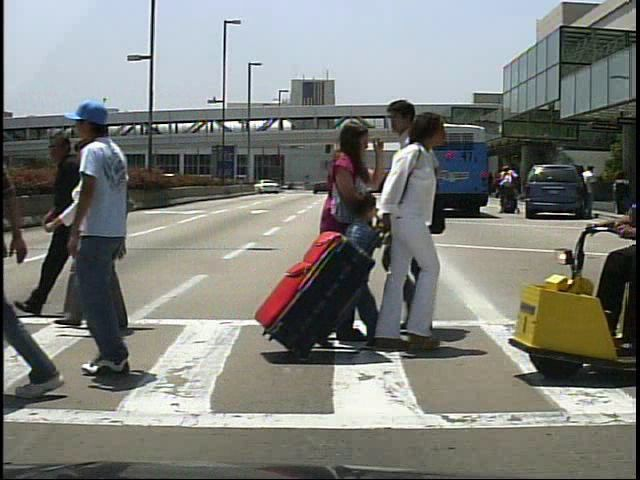person: (62, 105, 170, 388), (366, 99, 481, 350), (355, 117, 458, 368), (316, 122, 385, 357), (64, 137, 129, 331), (39, 129, 97, 323), (331, 181, 379, 319), (582, 164, 602, 218), (498, 166, 516, 219), (502, 165, 521, 215)
